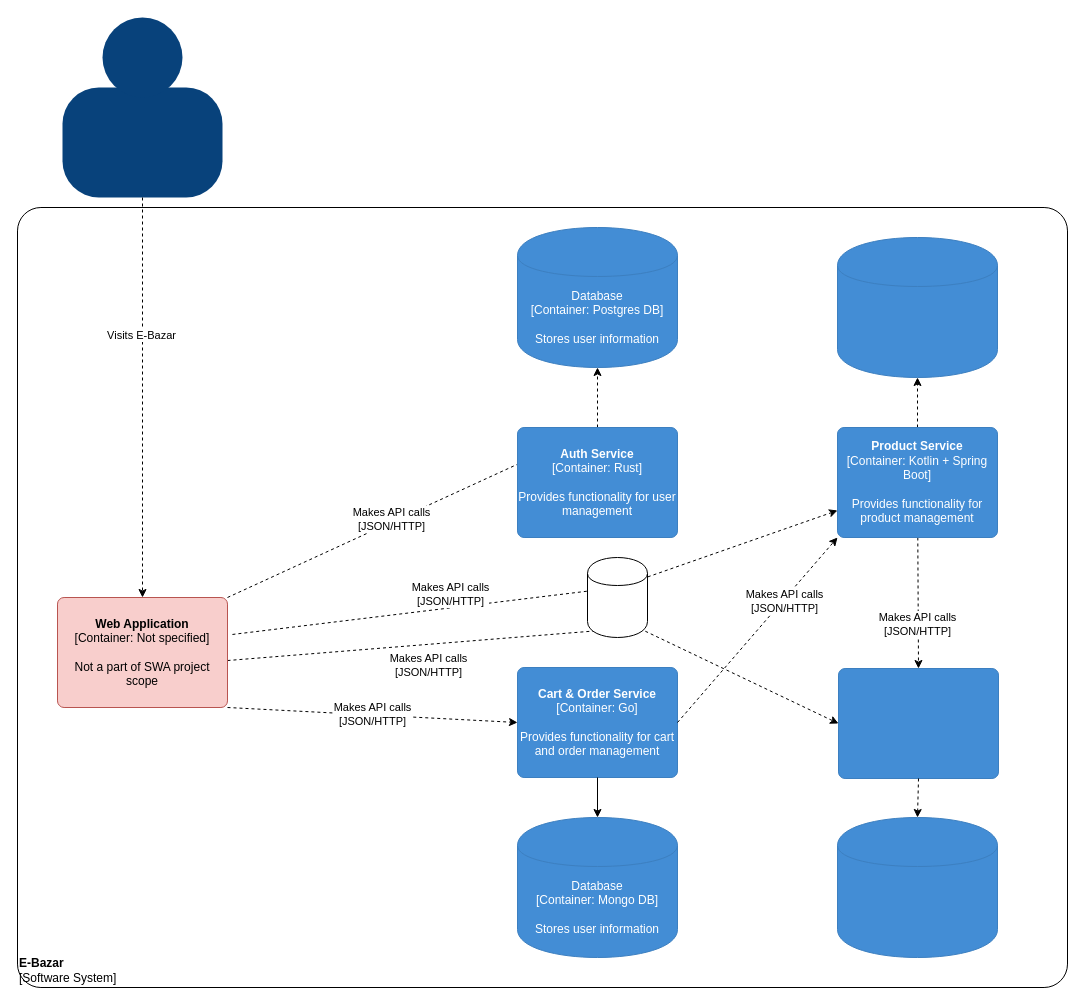
Image size: 1085x1005. Some labels were removed from this diagram. Each missing label, with the box of its shape:
Customer [Person] Seller or Buyer: (62, 86, 222, 198)
Database [Container: Mongo DB] Stores product information: (836, 236, 998, 378)
Database [Container: Postgress DB] Store product reviews: (836, 816, 998, 958)
Review Service [Container: Rust ] Profides functionality for reviews: (838, 668, 998, 778)
